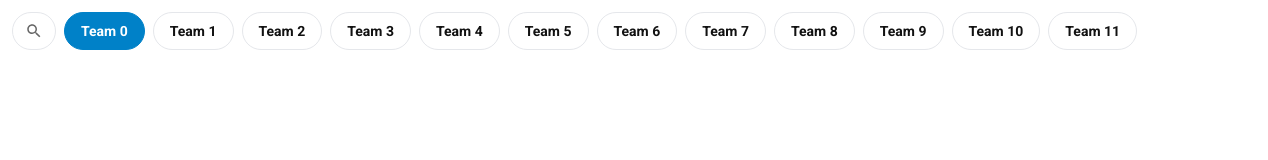
Test: PillBar › says so when nothing matches
Click the button titled "Jump to..." at (34, 31), box [12,12,56,50]
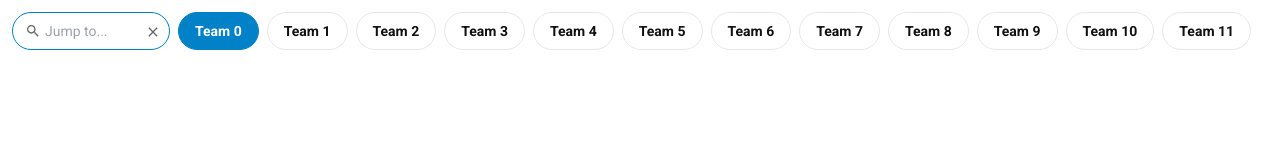
Type "zzz" into the field with placeholder "Jump to..." at (93, 31), box [45,21,141,41]
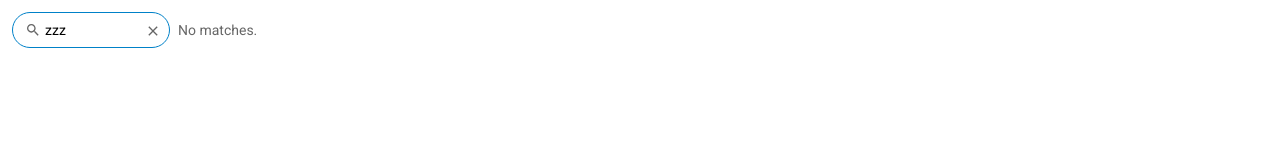
Expected: the text "No matches." is shown, [178,22,257,38]
